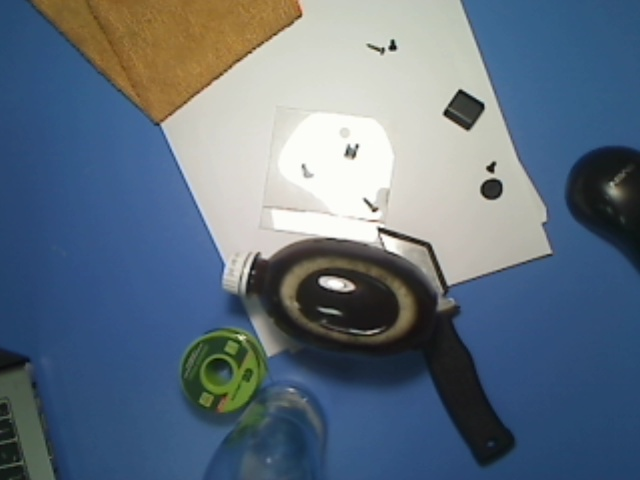plast_bottle: (219, 233, 440, 362)
